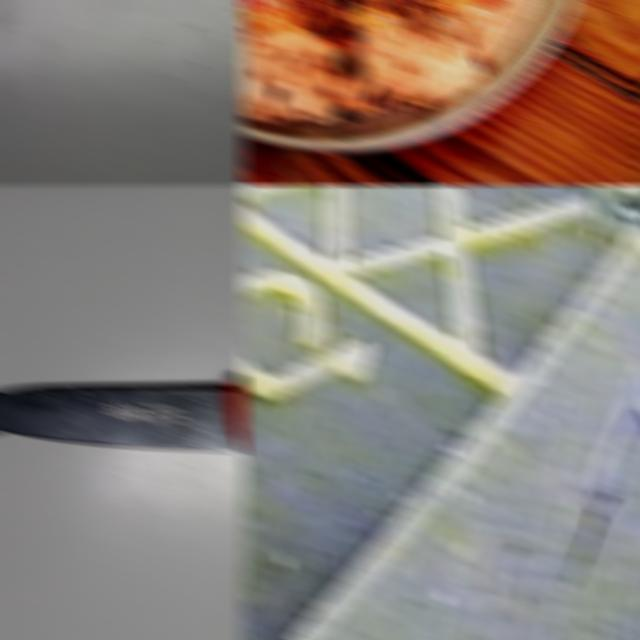Knife: (0, 379, 246, 455)
Knife_Handle: (567, 453, 621, 583)
